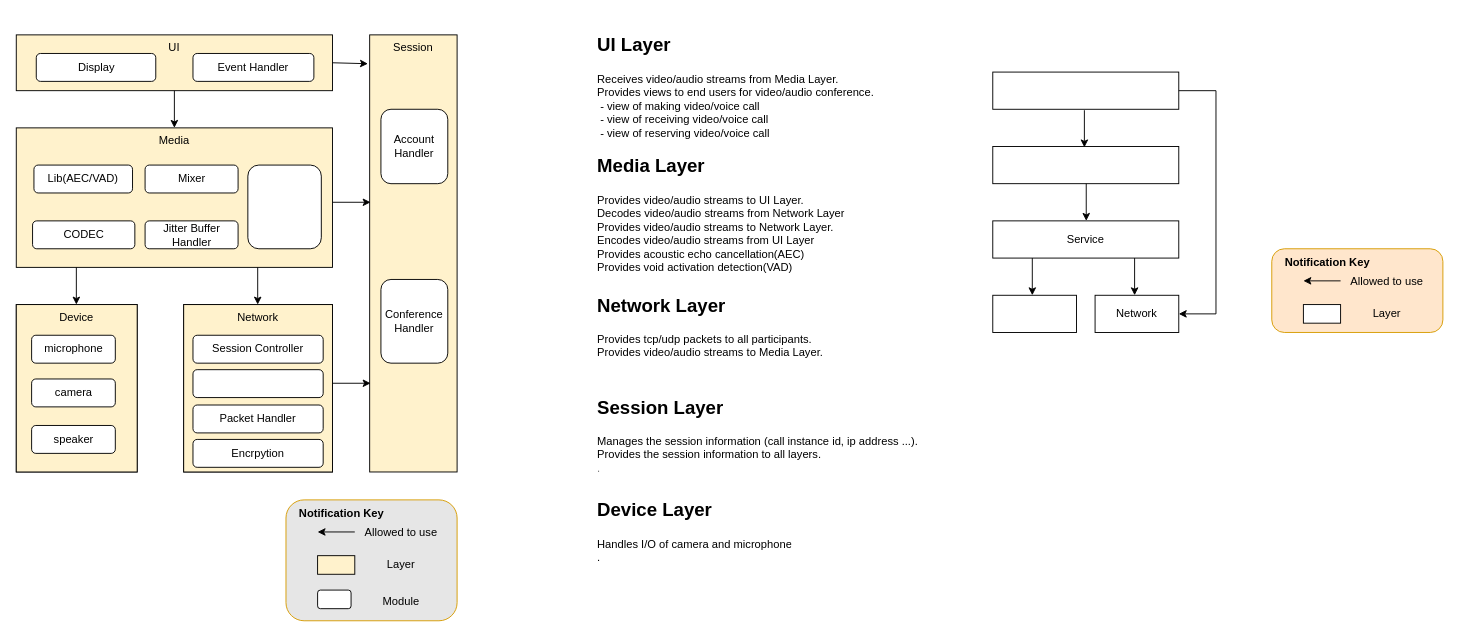
Some shapes in this 1459 by 637 pixel diagram are drawn without their labels. The shapes that lost their labels are listed below. From the top down, each one's centre as x and y in pixels, then its label:
[1085,90]: Controller
[1085,165]: REST
[284,206]: Multimedia Stream Handler
[1034,313]: DAO
[257,383]: Stream Buffer Handler
